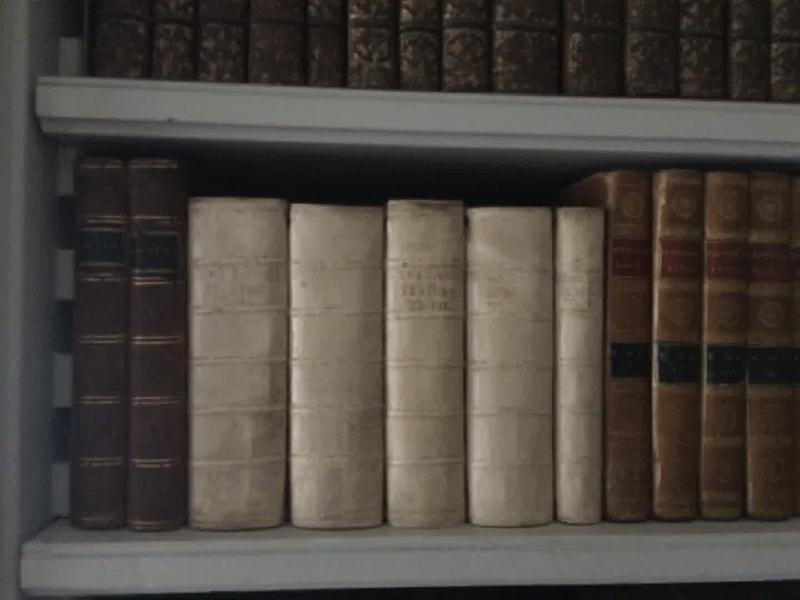Kk4-1_2: (66, 150, 201, 547)
Kk4-3_7: (183, 187, 610, 535)
Kk4-8_13: (604, 166, 800, 537)
